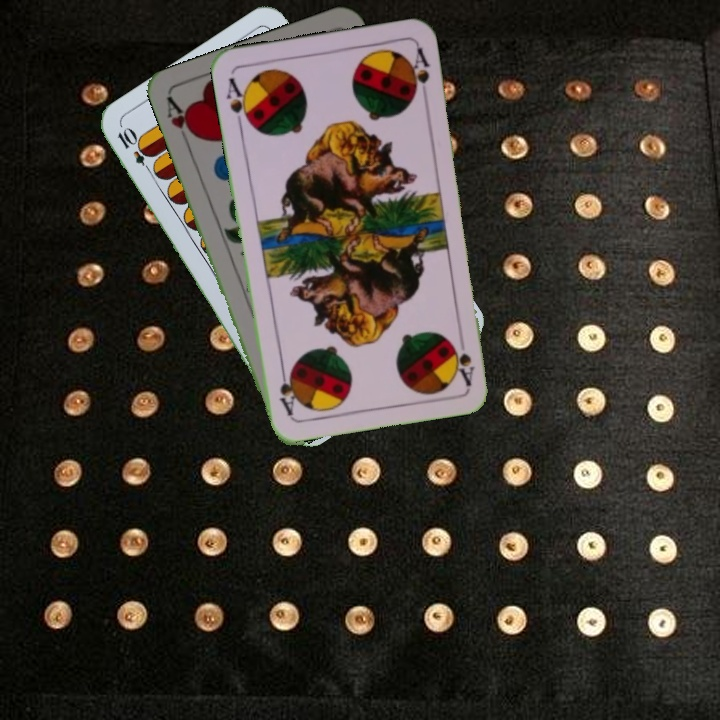E10: (113, 125, 157, 177)
HA: (162, 93, 199, 150)
SA: (222, 73, 254, 131), (450, 329, 477, 388)
